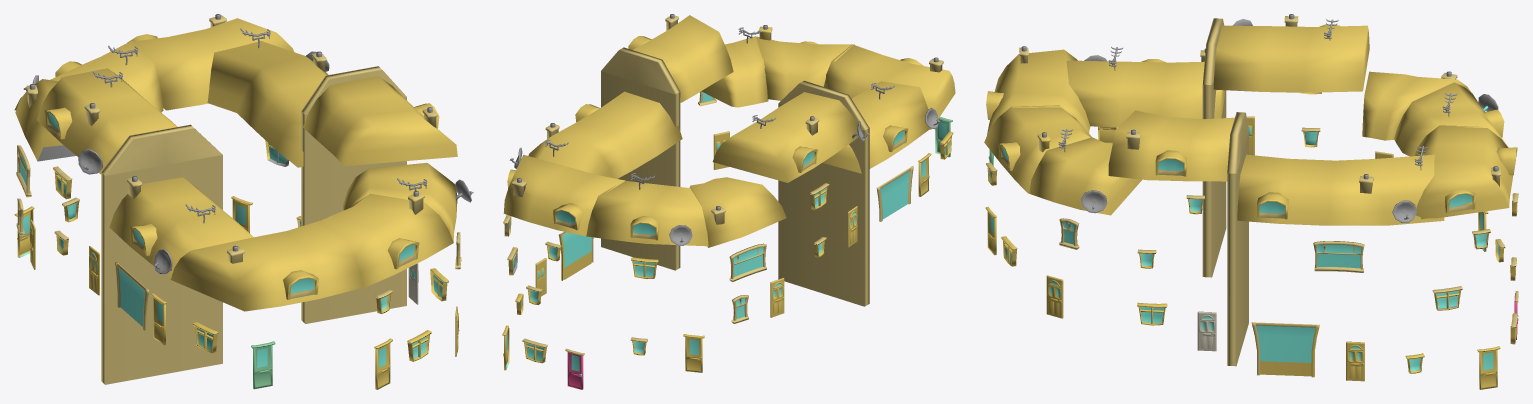
Rendered from Kyle_B_2.fbx.
3 views of the same model, side by side, from view 1: azimuth 30°, elevation 25°; view 2: azimuth 150°, elevation 25°; view 3: azimuth 270°, elevation 25° (orthographic). The views are drawn at different scales.
Visible parts, largest first — view 1: Kyle_B_2; view 2: Kyle_B_2; view 3: Kyle_B_2.
Part boxes in pixels (x1,y1,x2,y2): Kyle_B_2: (14, 14, 473, 389); Kyle_B_2: (502, 14, 955, 389); Kyle_B_2: (984, 14, 1518, 389).
Bounding box in the file's own units: 1699 × 1373 × 2505.
